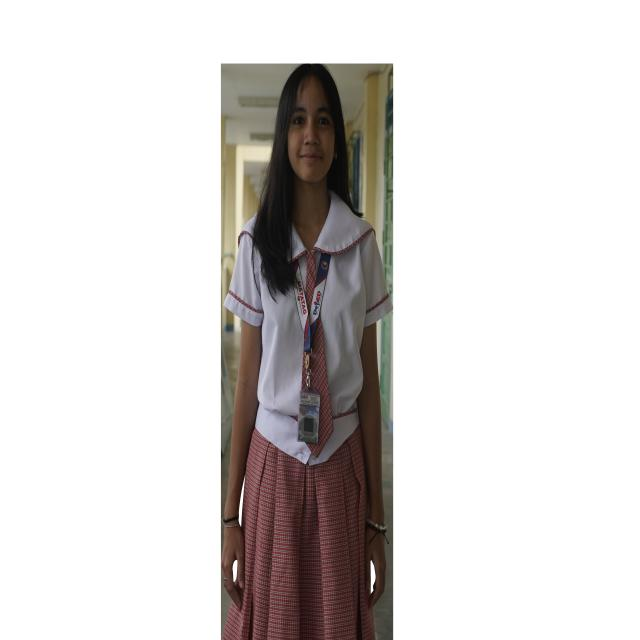id lace: (296, 253, 330, 352), (293, 261, 302, 285)
pologirl: (310, 192, 392, 465), (224, 216, 311, 462)
